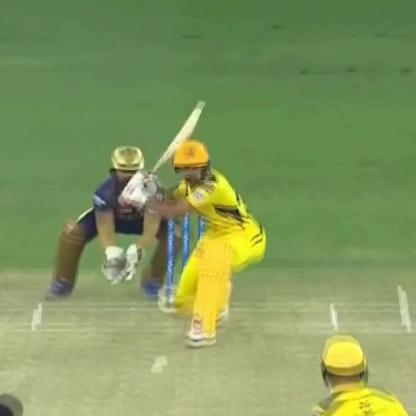ball: (140, 108, 202, 187), (155, 350, 171, 370), (149, 360, 160, 382)
pitch: (1, 280, 416, 415)
